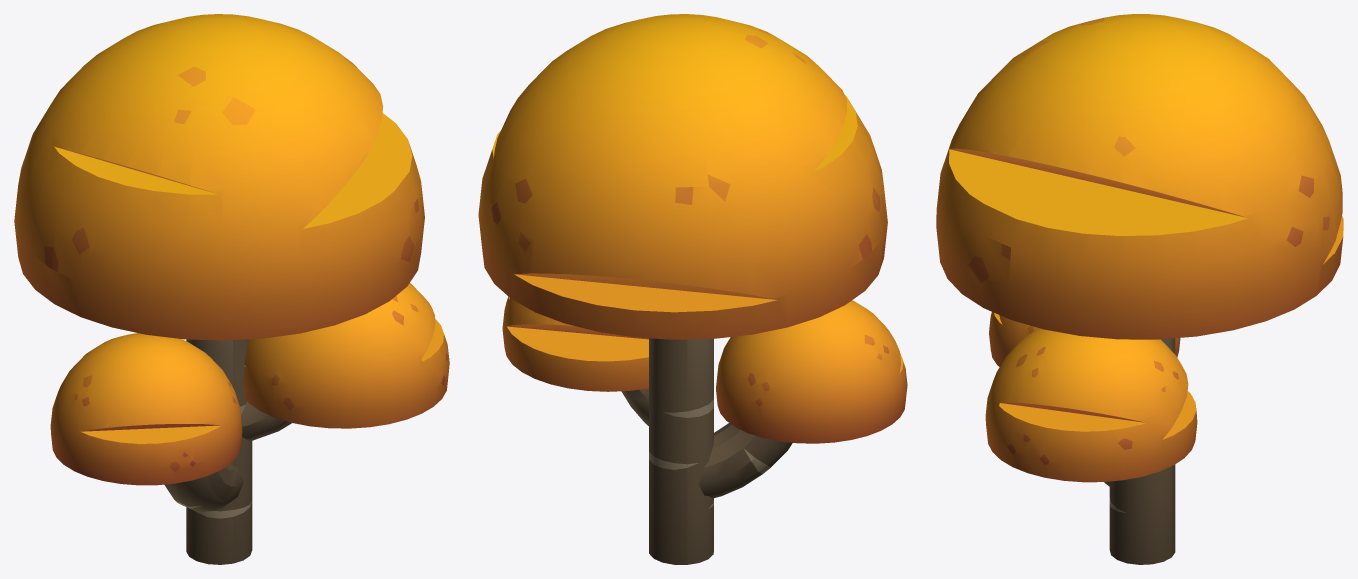
The model's file is garden_tree_yellow.glb.
3 renders of one model, left to right at view 1: azimuth 30°, elevation 25°; view 2: azimuth 150°, elevation 25°; view 3: azimuth 270°, elevation 25°, orthographic.
Parts seen in each view (by area): view 1: garden_tree_yellow; view 2: garden_tree_yellow; view 3: garden_tree_yellow.
Boxes of the visible parts, x1,y1,x2,y2 form: garden_tree_yellow: (14,14,449,564); garden_tree_yellow: (478,14,907,564); garden_tree_yellow: (936,14,1343,564).
Bounding box in the file's own units: 4.12 × 5.44 × 3.88.
Materials: 1 (1 with a texture image).
